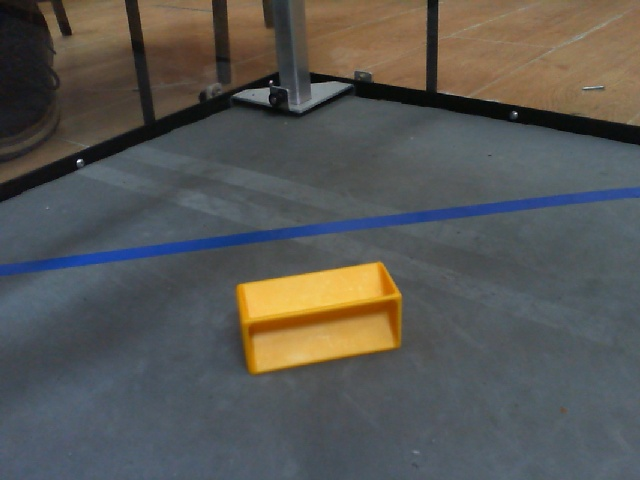YellowSample: (234, 260, 412, 381)
